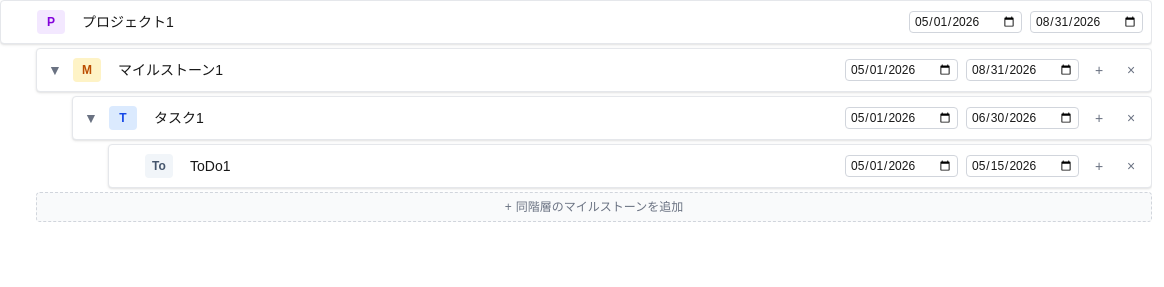
Test case: ManagementTree — ToDo 追加でスクロール › ToDo 追加ボタン押下で新 ToDo が表示され scrollIntoView が呼ばれる
Click the button named "同階層を追加": (1099, 166) [1087,154,1111,178]
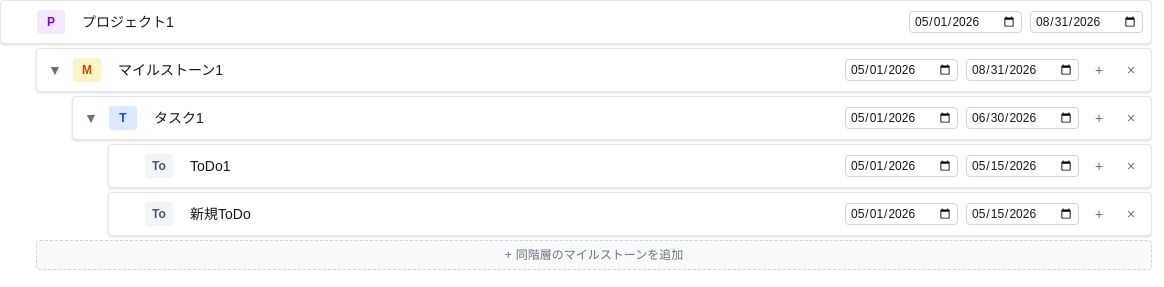
Expected: the 5th field showing "新規ToDo" is shown, [181,199,837,229]
